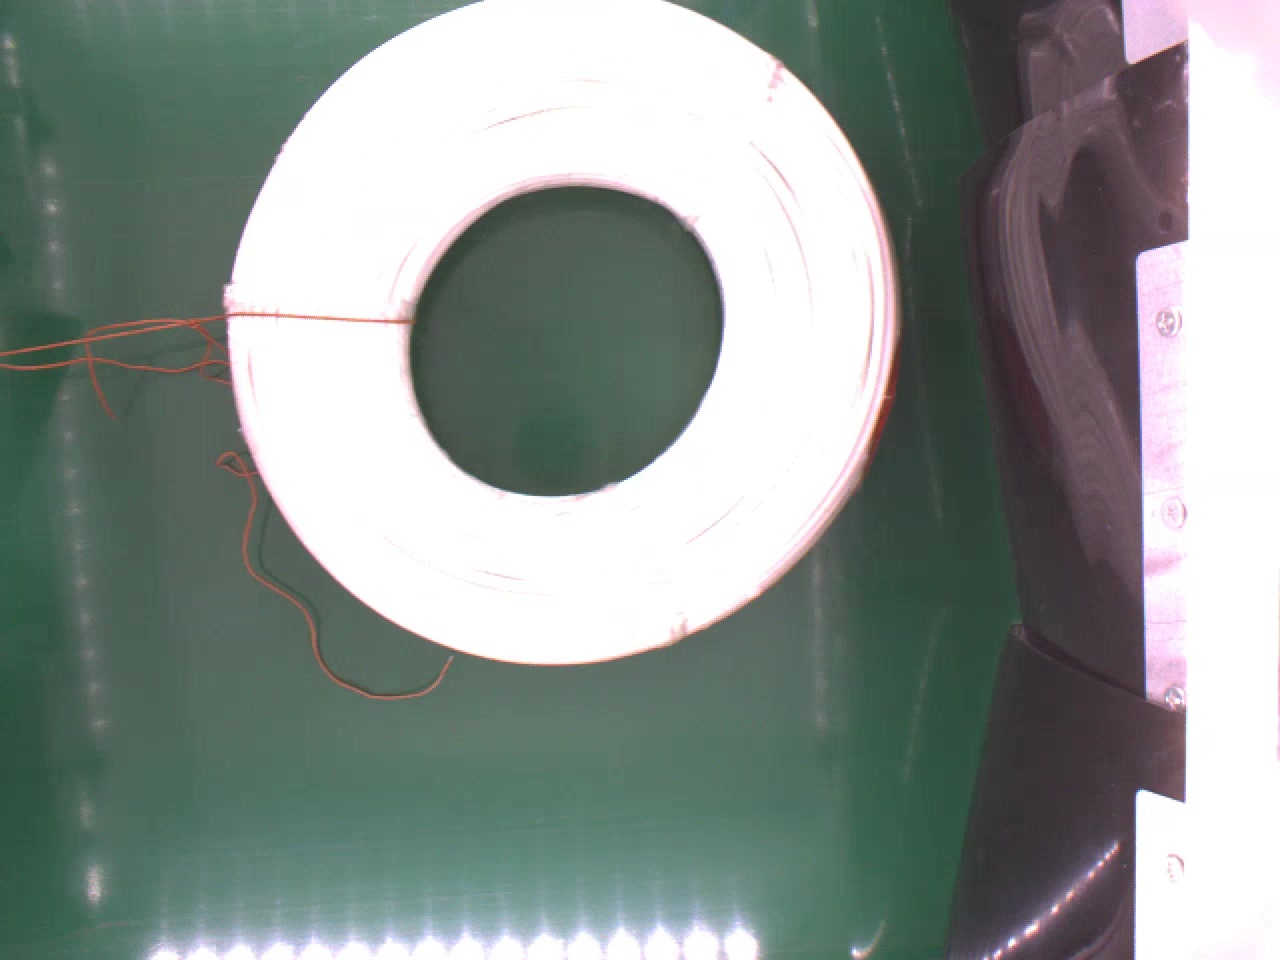white: (224, 0, 900, 672)
